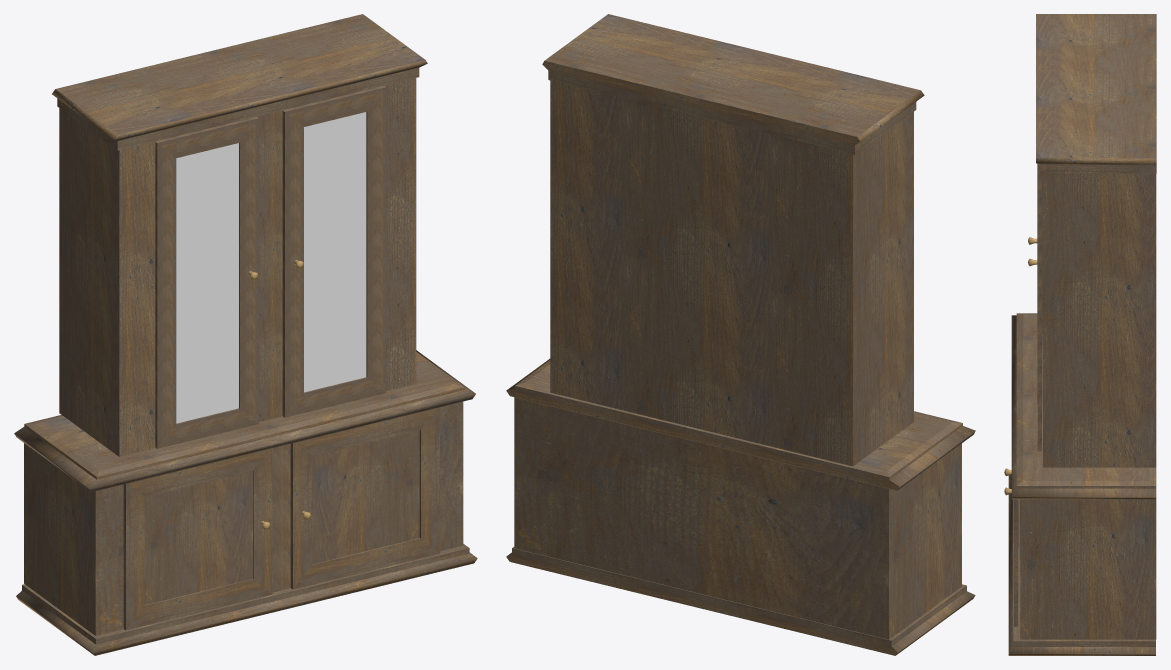
File: chinahutch.glb
The picture shows the model from 3 angles, left to right: view 1: azimuth 30°, elevation 25°; view 2: azimuth 150°, elevation 25°; view 3: azimuth 270°, elevation 25°; orthographic projection. The views are drawn at different scales.
Visible parts, largest first — view 1: CabinetBase300, ChinaHutch_LL300, ChinaHutch_LR300; view 2: CabinetBase300; view 3: CabinetBase300, ChinaHutch_LR300.
Part boxes in pixels (x1,y1,x2,y2): CabinetBase300: (14, 14, 477, 655); ChinaHutch_LL300: (123, 448, 272, 630); ChinaHutch_LR300: (290, 407, 439, 589); CabinetBase300: (506, 14, 975, 655); CabinetBase300: (1008, 14, 1156, 655); ChinaHutch_LR300: (1004, 487, 1018, 626).
Size of the model in its own units: 2.47 by 3.05 by 0.8742.
Materials: 4 (3 with a texture image).
